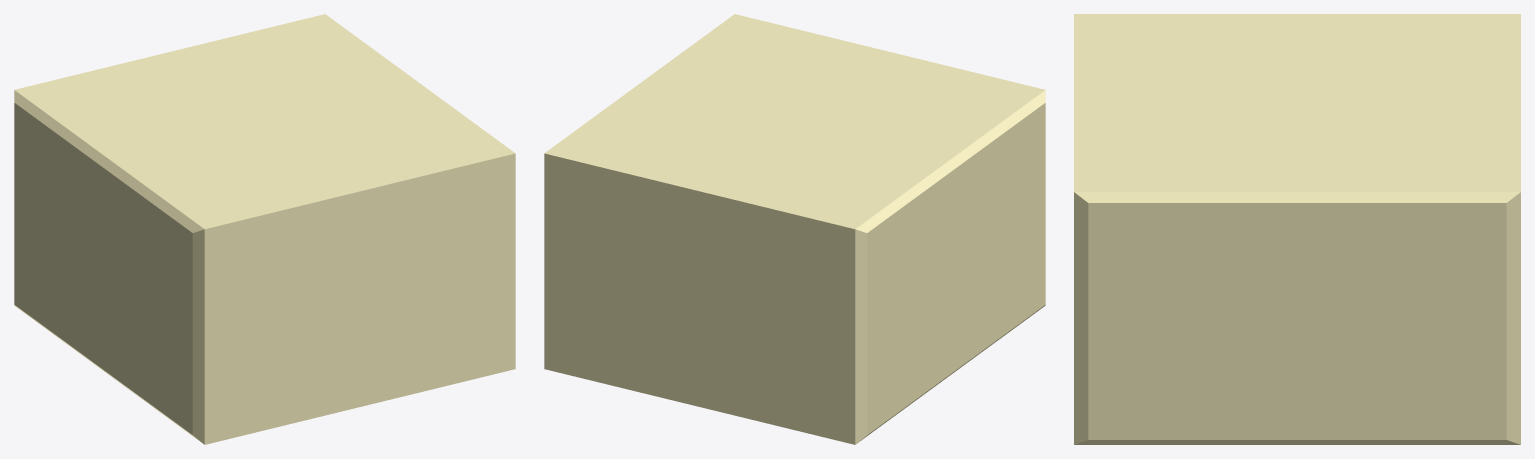
The model's file is Itr_Couch_Inside_Seat_Middle_02.FBX.
3 views of the same model, side by side, from view 1: azimuth 30°, elevation 25°; view 2: azimuth 150°, elevation 25°; view 3: azimuth 270°, elevation 25° (orthographic). The views are drawn at different scales.
Visible parts, largest first — view 1: Itr_Couch_Inside_Seat_Middle_02; view 2: Itr_Couch_Inside_Seat_Middle_02; view 3: Itr_Couch_Inside_Seat_Middle_02.
Boxes of the visible parts, bbox=[...] form: Itr_Couch_Inside_Seat_Middle_02: bbox=[14, 14, 515, 444]; Itr_Couch_Inside_Seat_Middle_02: bbox=[544, 14, 1045, 444]; Itr_Couch_Inside_Seat_Middle_02: bbox=[1074, 14, 1520, 444].
Size of the model in its own units: 19.21 by 12.29 by 19.68.
